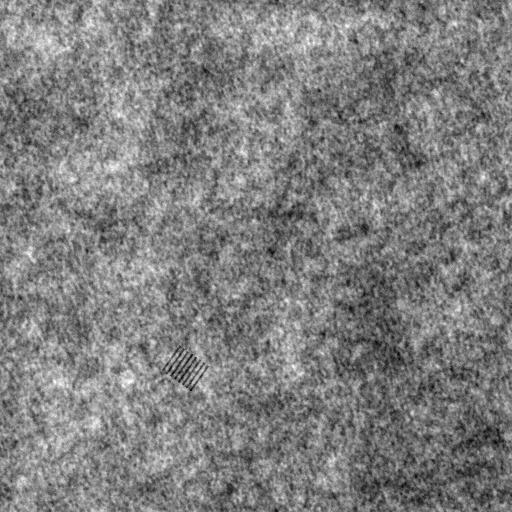DefectTypeB: (164, 343, 206, 387)
